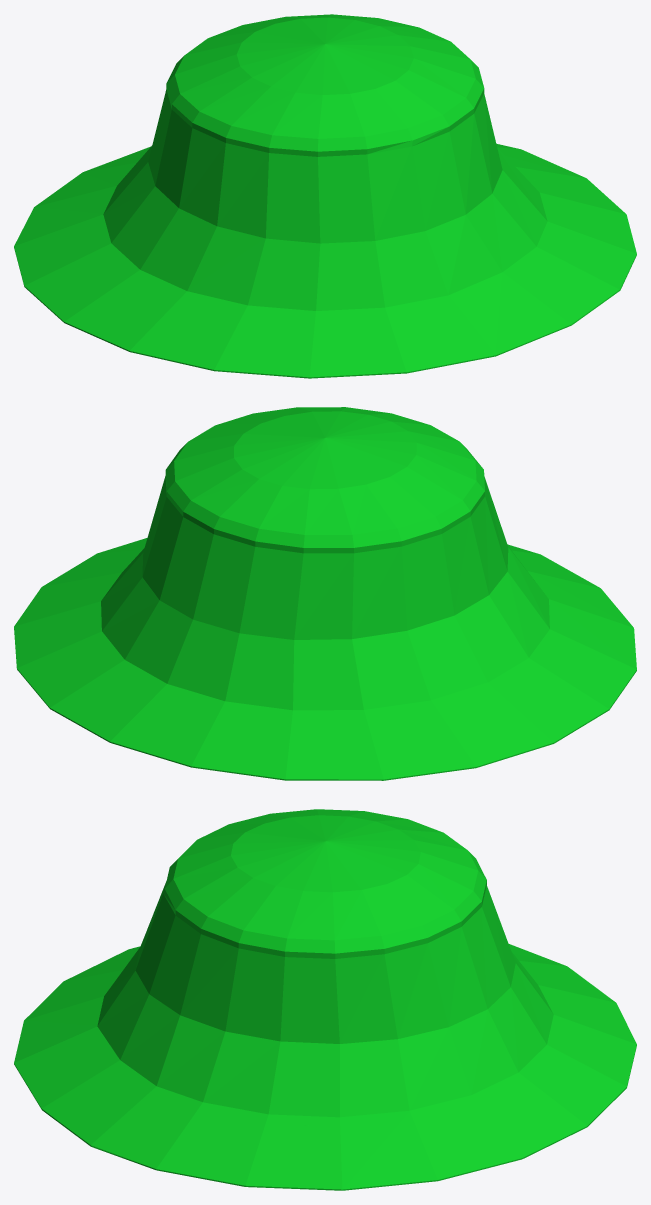
The model's file is hat_1__Object_5.glb.
3 views of the same model, one above another, from view 1: azimuth 30°, elevation 25°; view 2: azimuth 150°, elevation 25°; view 3: azimuth 270°, elevation 25° (orthographic). The views are drawn at different scales.
Parts seen in each view (by area): view 1: geometry_0; view 2: geometry_0; view 3: geometry_0.
Boxes of the visible parts, x1,y1,x2,y2 form: geometry_0: [14, 14, 636, 378]; geometry_0: [14, 407, 636, 780]; geometry_0: [14, 809, 636, 1190].
Size of the model in its own units: 2.15 by 0.7924 by 2.09.
